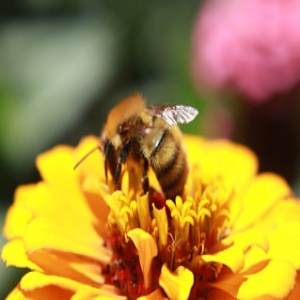bee: (74, 92, 198, 211)
